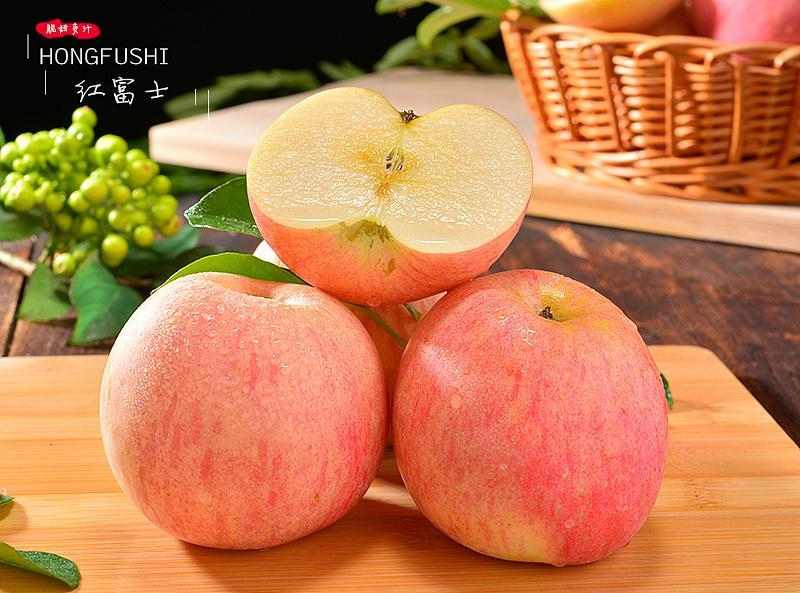apple: (380, 271, 670, 565), (100, 268, 391, 549), (243, 86, 537, 303)
